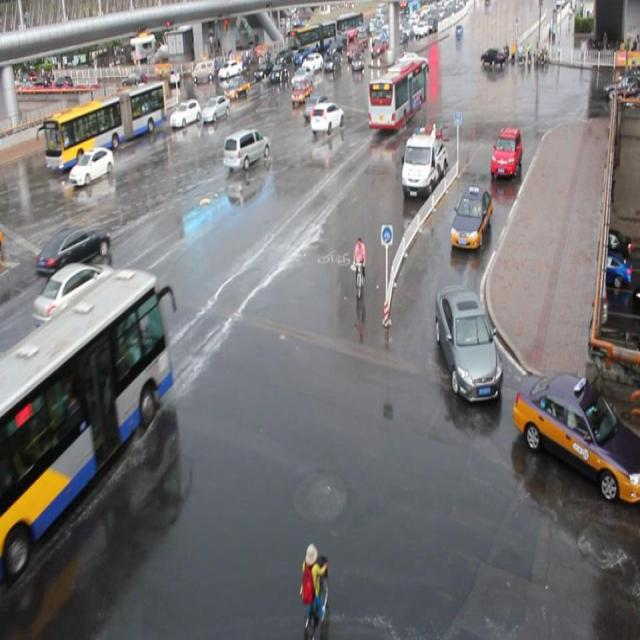bus: (400, 126, 447, 196)
car: (511, 370, 640, 502), (434, 282, 502, 401), (33, 260, 119, 328), (35, 225, 110, 278), (448, 183, 492, 250), (222, 128, 270, 169), (69, 147, 115, 185), (489, 126, 522, 176), (309, 102, 344, 134), (116, 106, 148, 138), (170, 99, 201, 127), (201, 96, 229, 123), (303, 93, 331, 119), (223, 77, 250, 100), (289, 77, 312, 103)
van: (1, 269, 173, 586), (43, 79, 167, 172), (366, 57, 428, 129)
